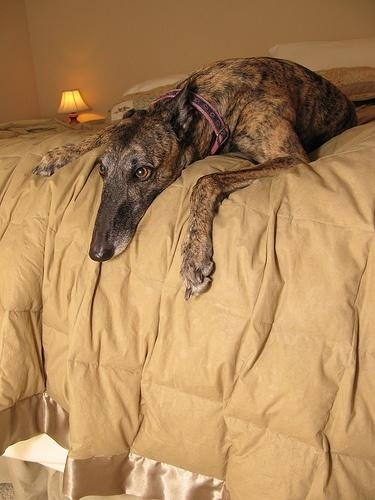dog: (35, 57, 361, 298)
